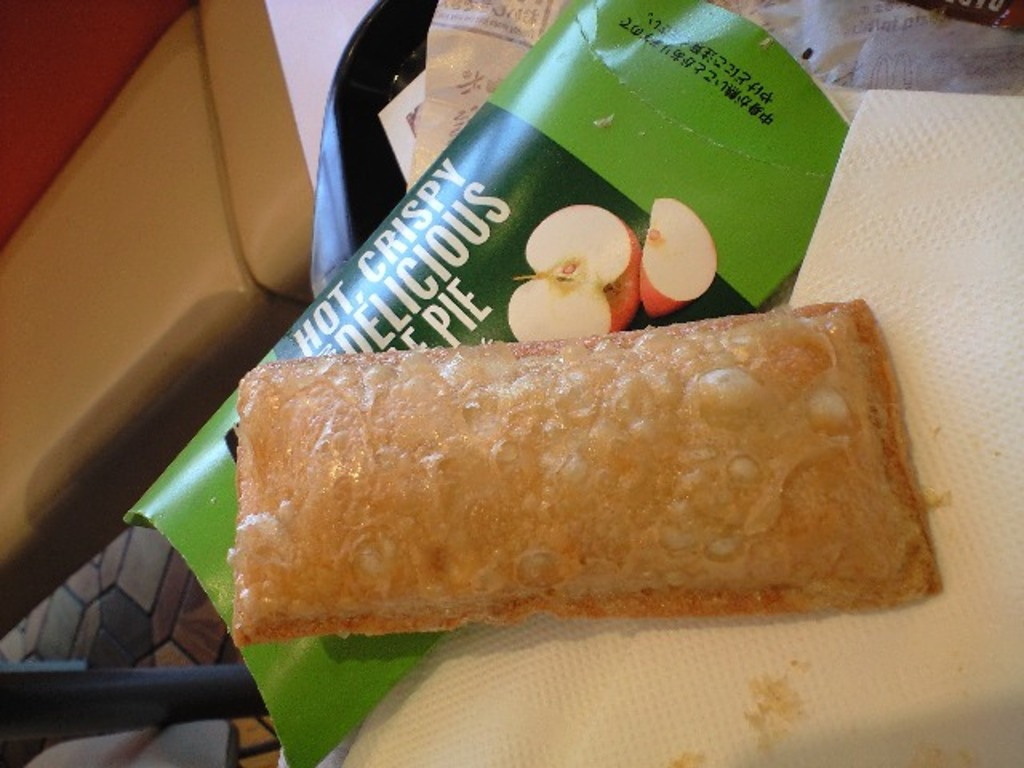Apple: (524, 214, 638, 348), (636, 198, 715, 320)
